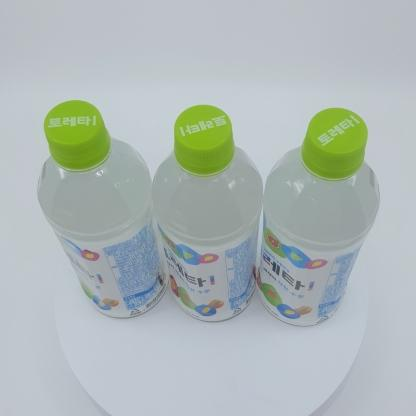-----500ML: (37, 100, 169, 318), (257, 107, 380, 327), (152, 105, 263, 322)
